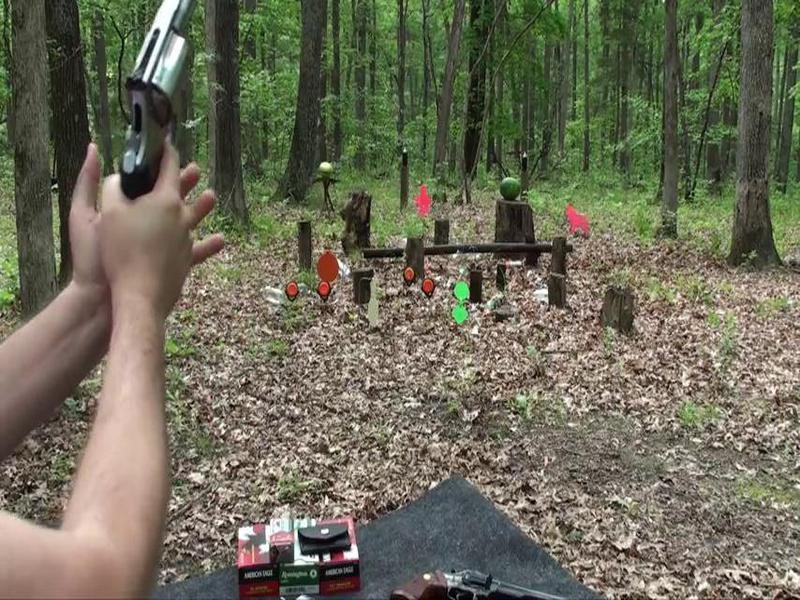Revolver: (102, 1, 226, 225)
